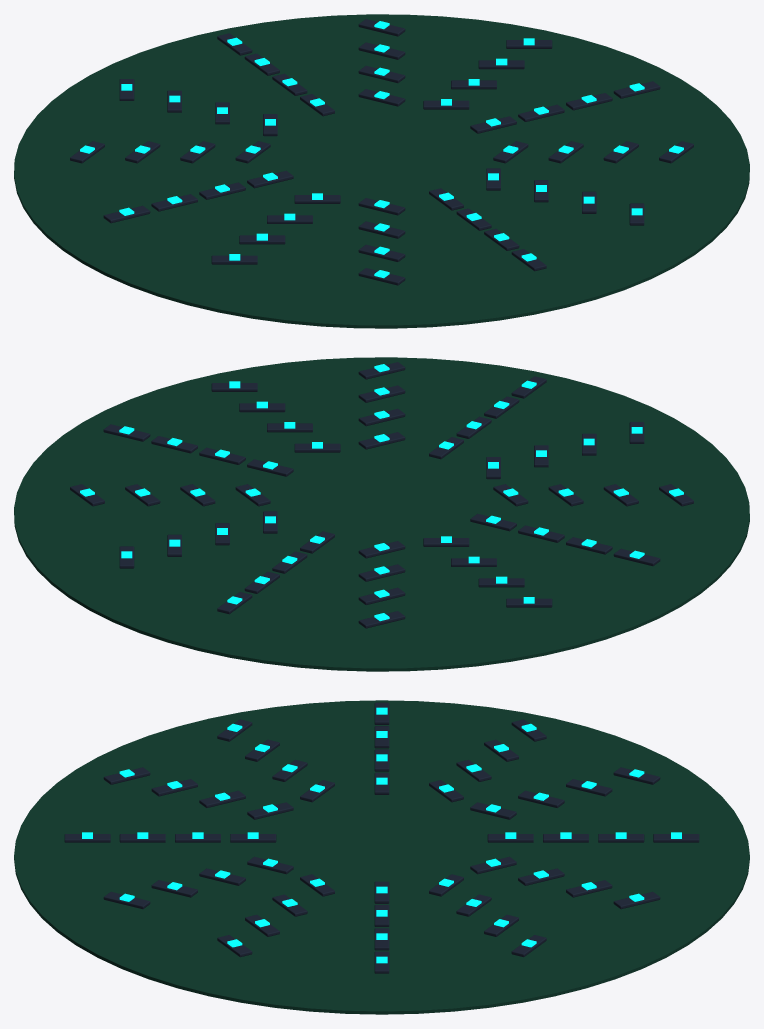
Rendered from backdrop_05.glb.
3 renders of one model, top to bottom at view 1: azimuth 30°, elevation 25°; view 2: azimuth 150°, elevation 25°; view 3: azimuth 270°, elevation 25°, orthographic.
Visible parts, largest first — view 1: backdrop_05; view 2: backdrop_05; view 3: backdrop_05.
Part boxes in pixels (x1,y1,x2,y2): backdrop_05: [14, 14, 749, 328]; backdrop_05: [14, 357, 749, 671]; backdrop_05: [14, 700, 749, 1014].
Size of the model in its own units: 80 by 2.95 by 80.
